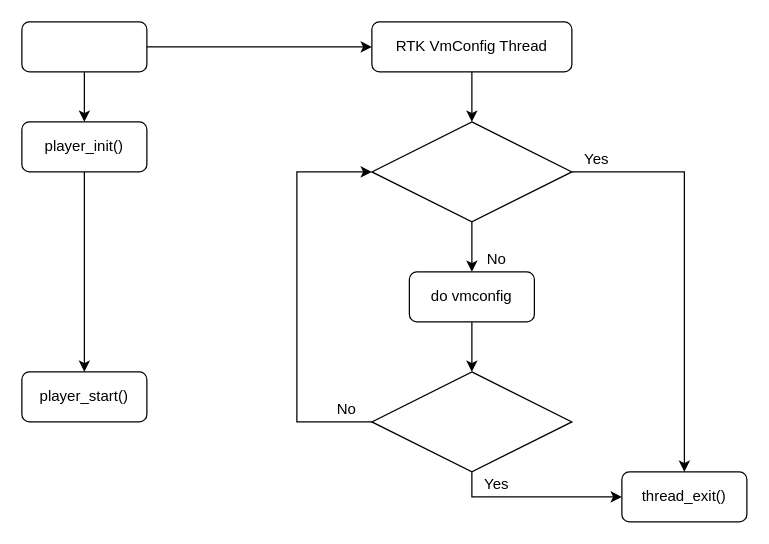
The diagram is 769 pixels wide and 544 high, and some of its shapes have lost their labels. Here are the shapes that lost their labels. From the top down, the centre of each, then its label:
point 84,46: bootup
point 471,171: m_vmconfigStat ? = online mode
point 471,421: ? = online mode
